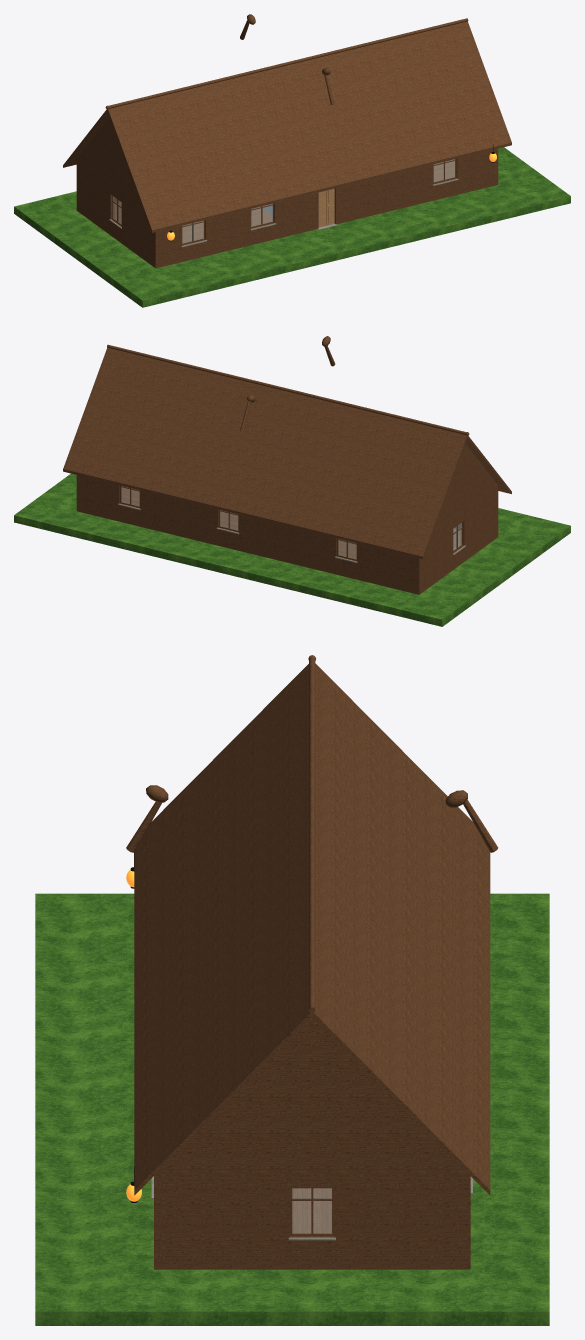
Rendered from b_viking_longhouse.gltf.
The picture shows the model from 3 angles, top to bottom: view 1: azimuth 30°, elevation 25°; view 2: azimuth 150°, elevation 25°; view 3: azimuth 270°, elevation 25°; orthographic projection. The views are drawn at different scales.
Visible parts, largest first — view 1: S_viking_longhouse; view 2: S_viking_longhouse; view 3: S_viking_longhouse.
Part boxes in pixels (x1,y1,x2,y2): S_viking_longhouse: (14, 14, 570, 307); S_viking_longhouse: (14, 336, 570, 626); S_viking_longhouse: (35, 655, 549, 1325).
Bounding box in the file's own units: 25 × 9.23 × 13.
14 materials, 8 textured.
